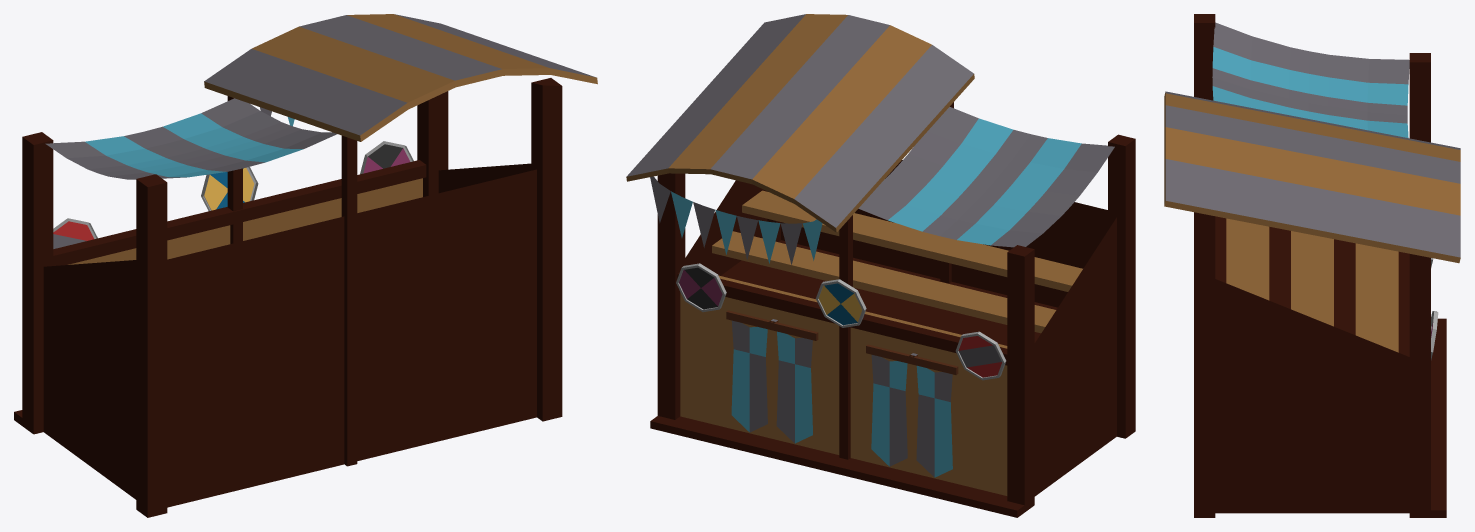
Rendered from TarimaArtesanos.fbx.
3 views of the same model, side by side, from view 1: azimuth 30°, elevation 25°; view 2: azimuth 150°, elevation 25°; view 3: azimuth 270°, elevation 25° (orthographic). The views are drawn at different scales.
Visible parts, largest first — view 1: Tarima.003; view 2: Tarima.003; view 3: Tarima.003.
Boxes of the visible parts, bbox=[...] form: Tarima.003: bbox=[14, 14, 597, 517]; Tarima.003: bbox=[626, 14, 1135, 517]; Tarima.003: bbox=[1164, 14, 1460, 517].
Size of the model in its own units: 550 by 456 by 344.
